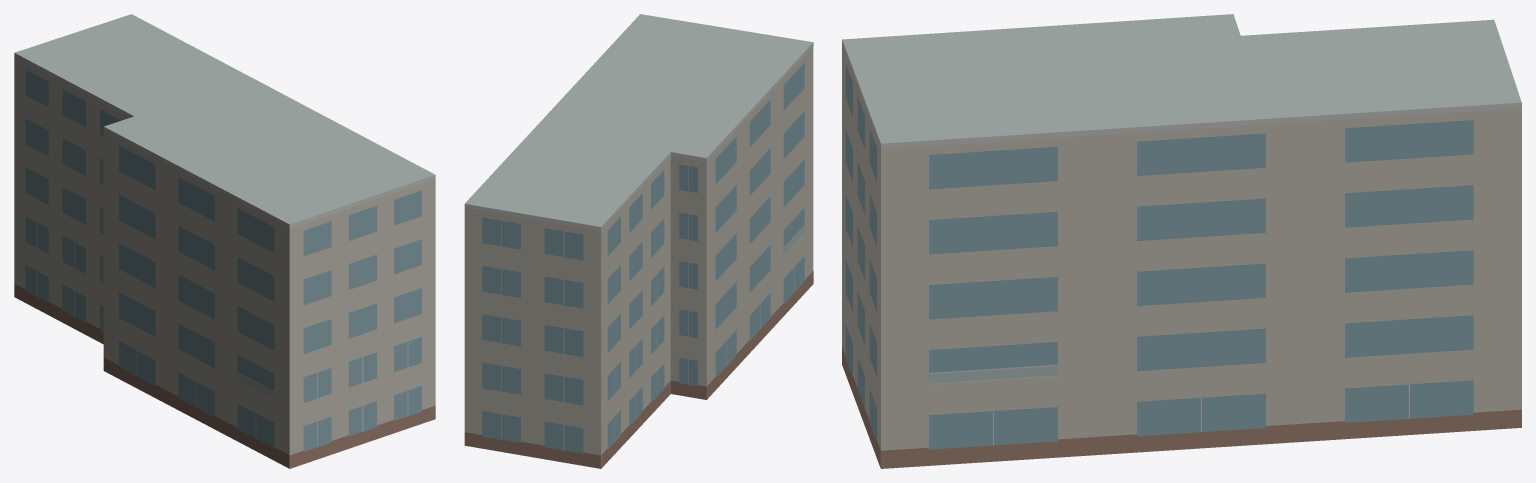
Rendered from survey-upis-32699031.glb.
3 views of the same model, side by side, from view 1: azimuth 30°, elevation 25°; view 2: azimuth 150°, elevation 25°; view 3: azimuth 270°, elevation 25° (orthographic). The views are drawn at different scales.
Visible parts, largest first — view 1: survey-upis-32699031.tmp; view 2: survey-upis-32699031.tmp; view 3: survey-upis-32699031.tmp.
Part boxes in pixels (x1,y1,x2,y2): survey-upis-32699031.tmp: [14, 14, 435, 468]; survey-upis-32699031.tmp: [464, 14, 813, 468]; survey-upis-32699031.tmp: [842, 14, 1521, 468].
Bounding box in the file's own units: 12.4 × 14.5 × 27.47.
